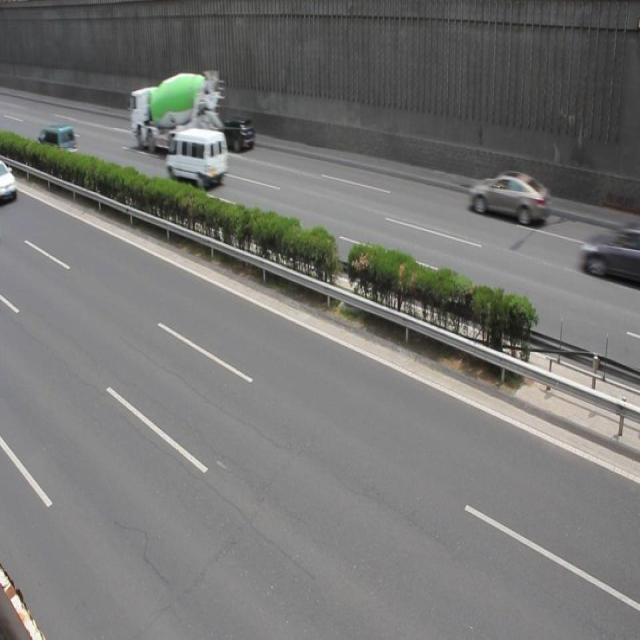bus: (130, 69, 223, 157)
car: (467, 169, 549, 229), (214, 117, 256, 153)
truck: (166, 126, 229, 187), (37, 124, 79, 165)
